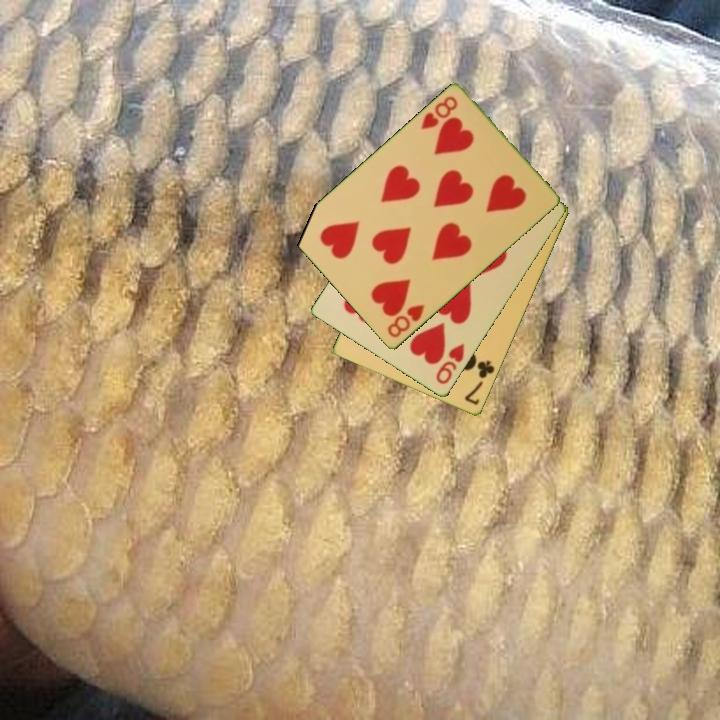7c: (461, 357, 498, 408)
8h: (417, 93, 461, 133), (384, 301, 427, 341)
9h: (432, 340, 468, 388)
